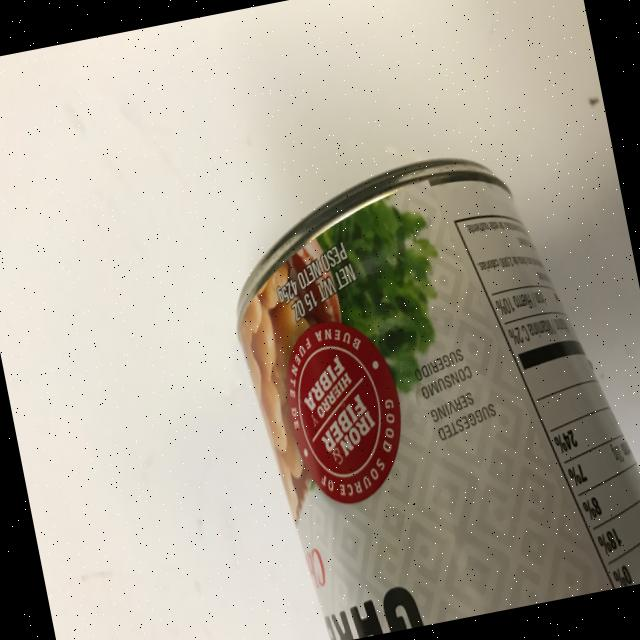metal: (210, 124, 640, 640)
